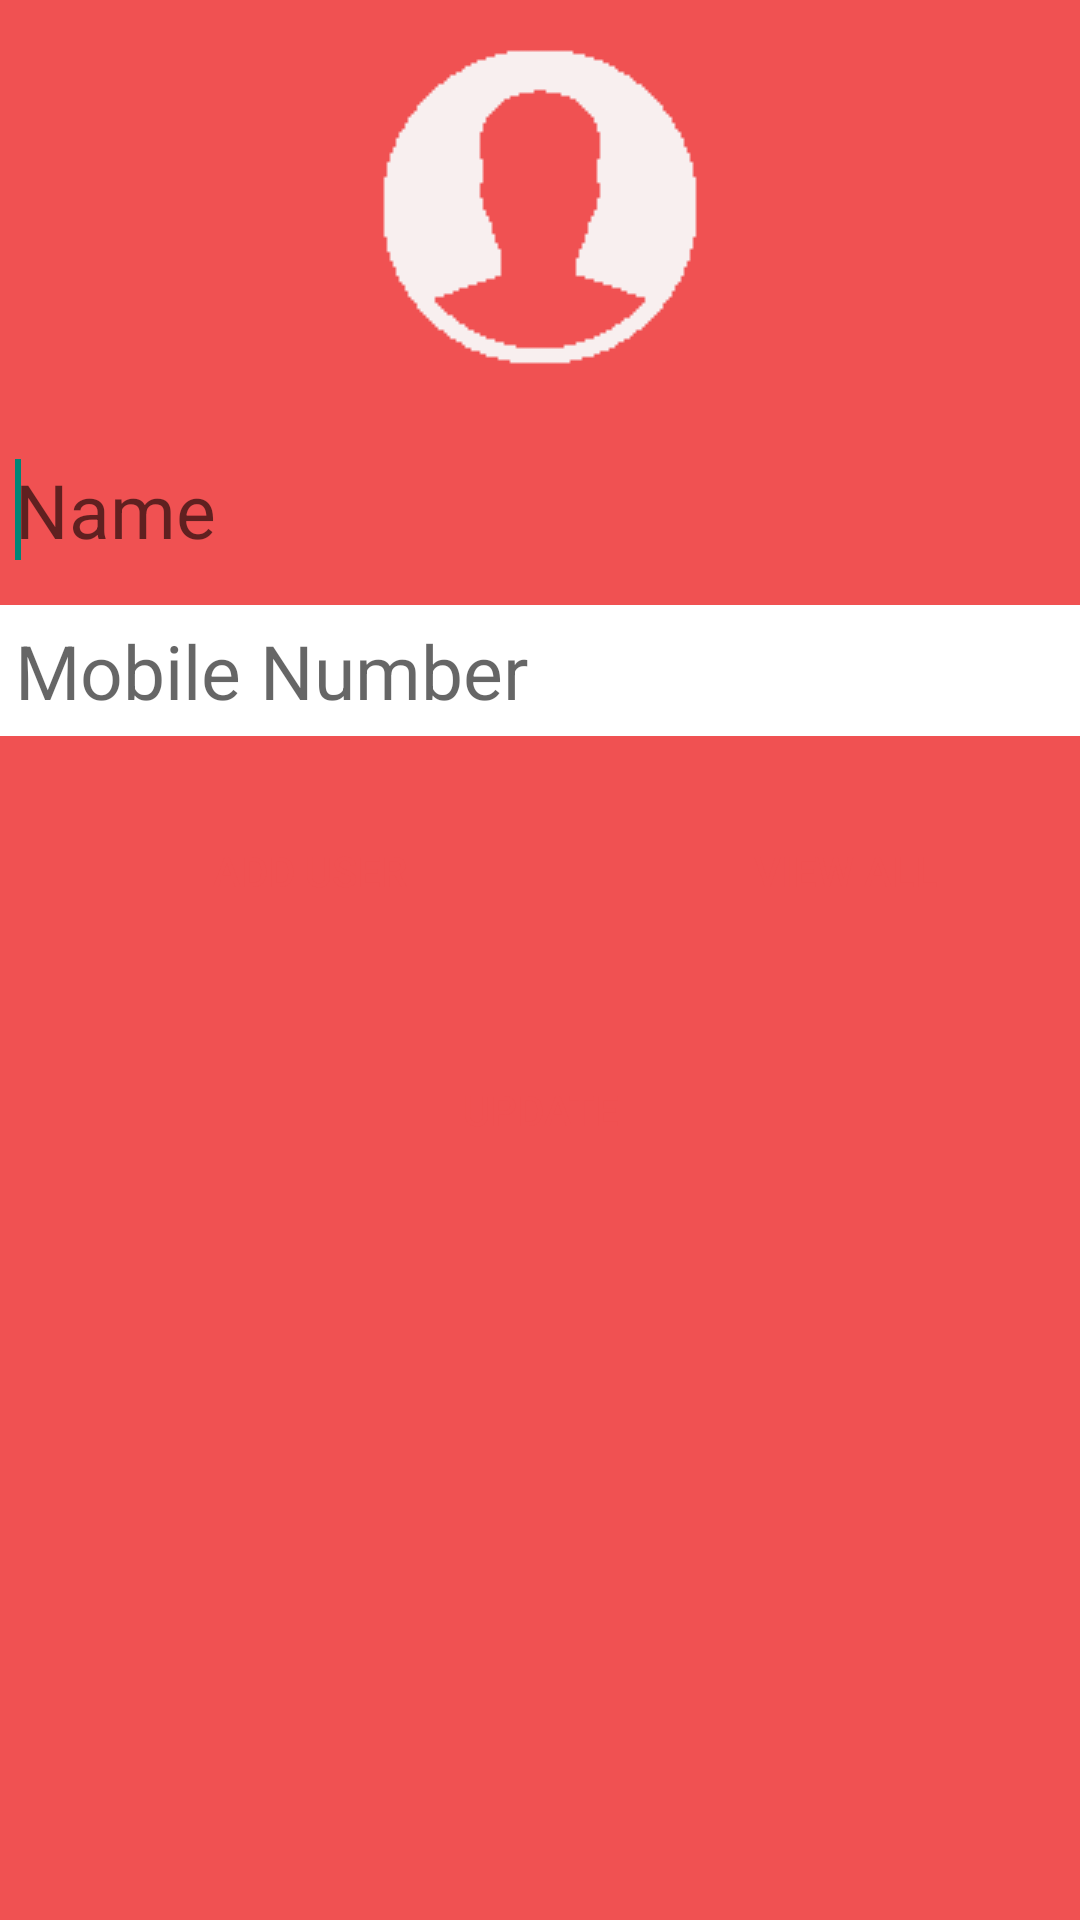

Icons on this 1080px×1920px Android screen, each with the point to tap as [x,y]:
contact: [540,207]
